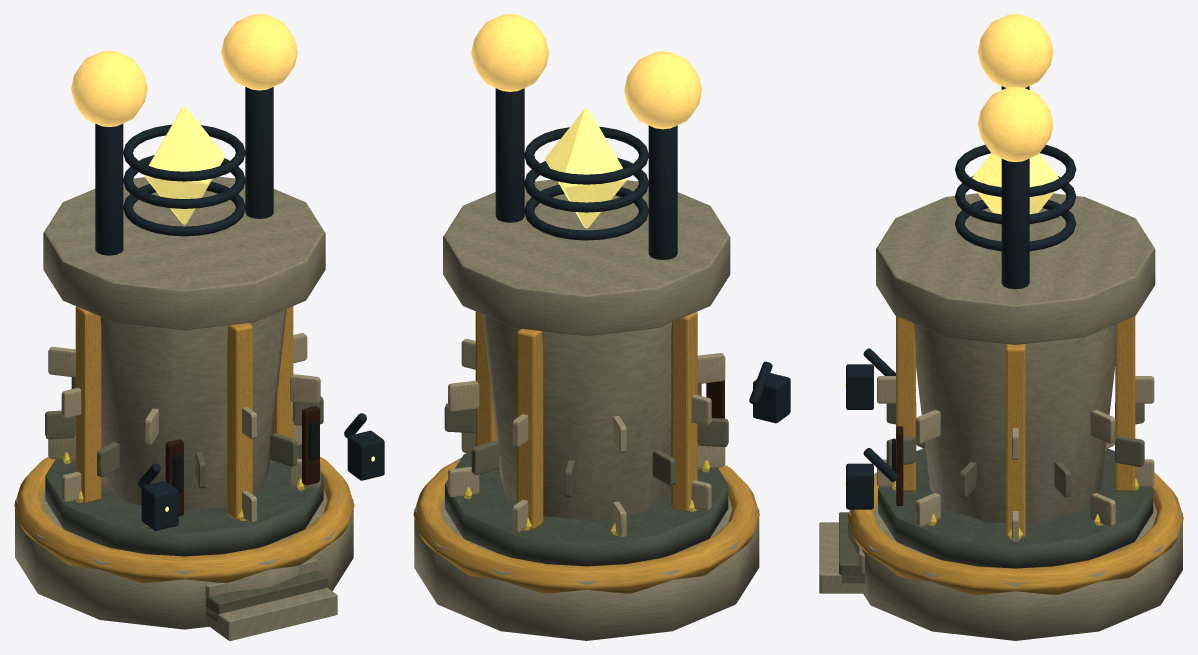
File: tower-thunder-1-base.glb
3 views of the same model, side by side, from view 1: azimuth 30°, elevation 25°; view 2: azimuth 150°, elevation 25°; view 3: azimuth 270°, elevation 25° (orthographic). The views are drawn at different scales.
Parts seen in each view (by area): view 1: Foundation, Turret, thunder-L1-base; view 2: Foundation, Turret, thunder-L1-base; view 3: Foundation, Turret, thunder-L1-base.
Part boxes in pixels (left/top/right/bottom): Foundation: left=14, top=306, right=384, bottom=640; Turret: left=43, top=14, right=325, bottom=330; thunder-L1-base: left=15, top=445, right=353, bottom=629; Foundation: left=413, top=311, right=790, bottom=593; Turret: left=443, top=14, right=730, bottom=335; thunder-L1-base: left=414, top=453, right=759, bottom=640; Foundation: left=819, top=316, right=1183, bottom=594; Turret: left=876, top=14, right=1155, bottom=344; thunder-L1-base: left=848, top=448, right=1182, bottom=640.
Bounding box in the file's own units: 1.69 × 2.86 × 1.83.
Materials: 13 (13 with a texture image).
